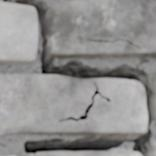brick: (0, 75, 146, 134), (48, 0, 155, 57), (0, 3, 36, 62), (153, 72, 155, 119)
broken_brick: (33, 150, 139, 155)
crack: (2, 0, 155, 155)
